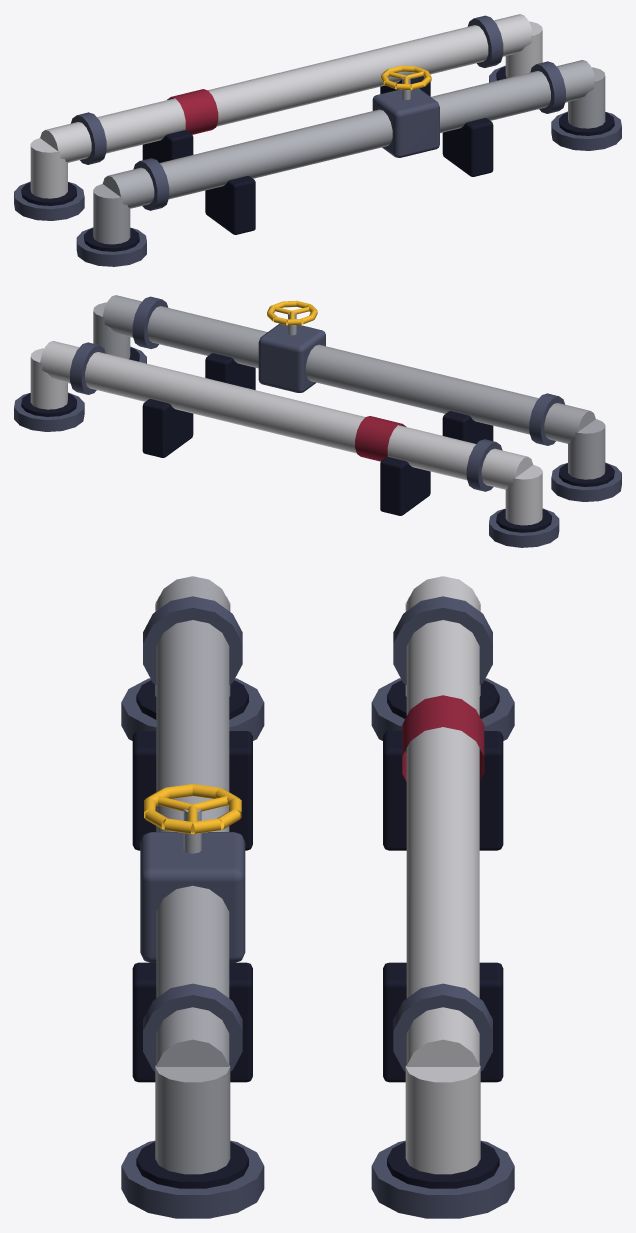
File: roof.pipes.w2.d1.glb
3 renders of one model, top to bottom at view 1: azimuth 30°, elevation 25°; view 2: azimuth 150°, elevation 25°; view 3: azimuth 270°, elevation 25°, orthographic. The views are drawn at different scales.
Parts seen in each view (by area): view 1: roof.pipes.w2.d1; view 2: roof.pipes.w2.d1; view 3: roof.pipes.w2.d1.
Boxes of the visible parts, x1,y1,x2,y2 form: roof.pipes.w2.d1: (14, 14, 621, 266); roof.pipes.w2.d1: (14, 295, 621, 547); roof.pipes.w2.d1: (121, 576, 514, 1218).
Bounding box in the file's own units: 1.65 × 0.309 × 0.5233.
